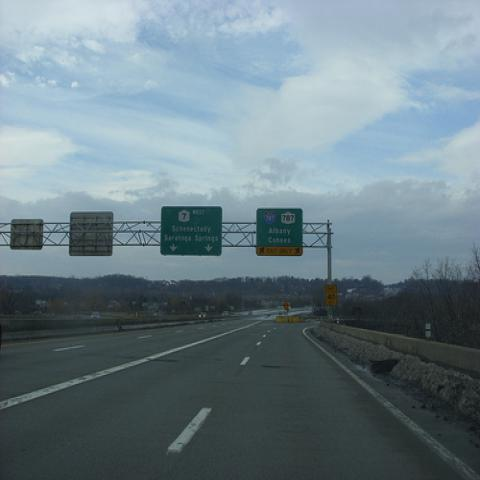car: (198, 313, 206, 318), (222, 311, 228, 316)
